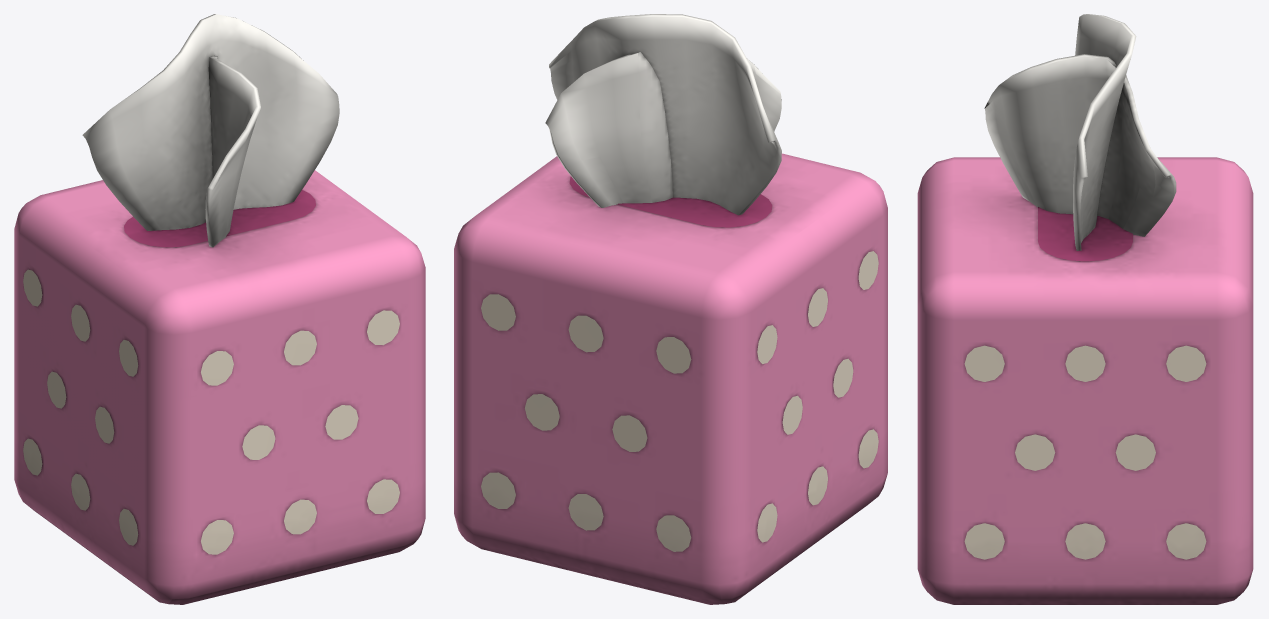
File: tissue_box.glb
3 views of the same model, side by side, from view 1: azimuth 30°, elevation 25°; view 2: azimuth 150°, elevation 25°; view 3: azimuth 270°, elevation 25° (orthographic). The views are drawn at different scales.
Parts seen in each view (by area): view 1: tissue_box; view 2: tissue_box; view 3: tissue_box.
Boxes of the visible parts, x1,y1,x2,y2 form: tissue_box: [14, 14, 425, 604]; tissue_box: [454, 14, 887, 604]; tissue_box: [917, 14, 1253, 604].
Bounding box in the file's own units: 0.1208 × 0.2062 × 0.1208.
Materials: 4 (4 with a texture image).
